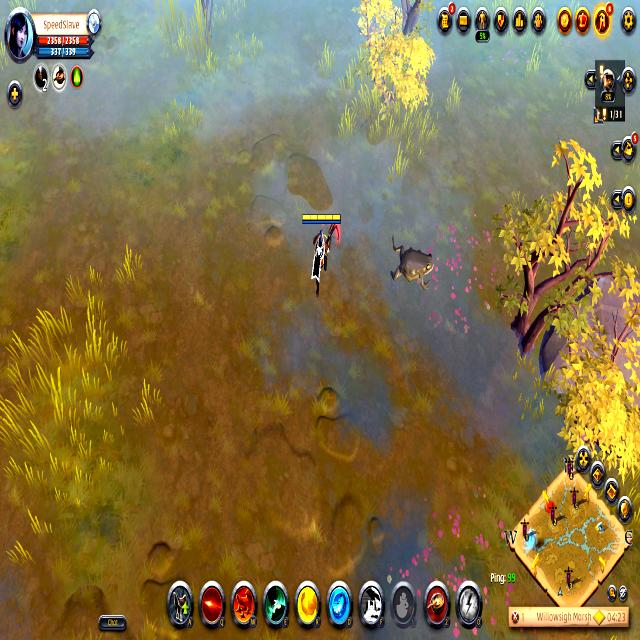ore: (384, 232, 442, 303)
red: (301, 208, 343, 304)
